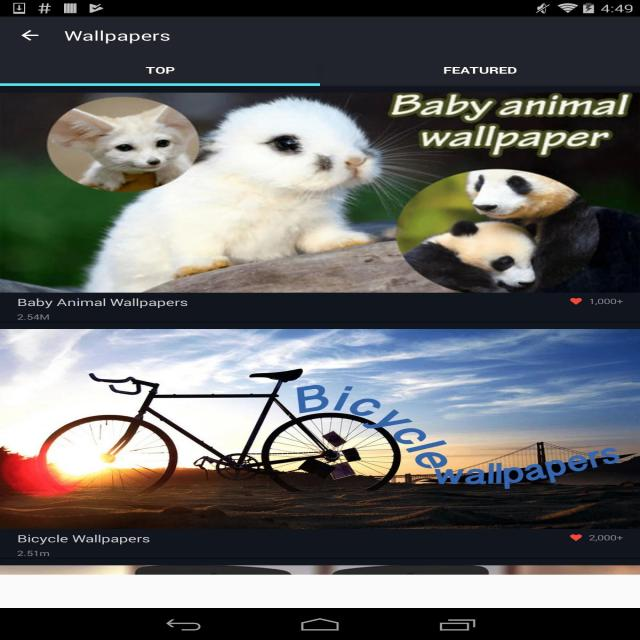button: (2, 88, 640, 328), (2, 327, 640, 565), (2, 60, 320, 86), (321, 61, 640, 84), (16, 28, 43, 44)
heading: (64, 28, 175, 47)
image: (3, 86, 639, 296), (0, 328, 640, 527)
text: (14, 296, 188, 308), (17, 530, 152, 544), (441, 63, 521, 77), (144, 63, 179, 76), (14, 312, 55, 322), (589, 532, 624, 543), (588, 297, 624, 307), (16, 550, 52, 558)
